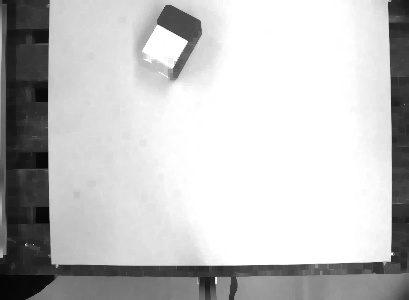b4: (136, 1, 203, 81)
